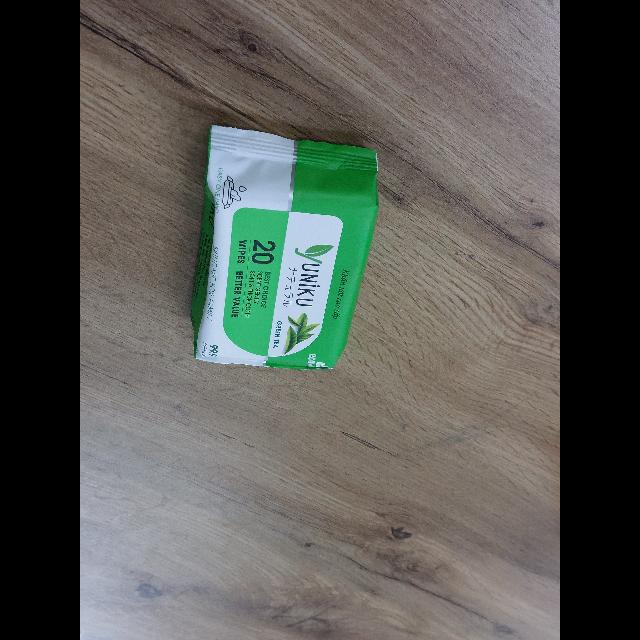khan_giay: (190, 122, 380, 369)
